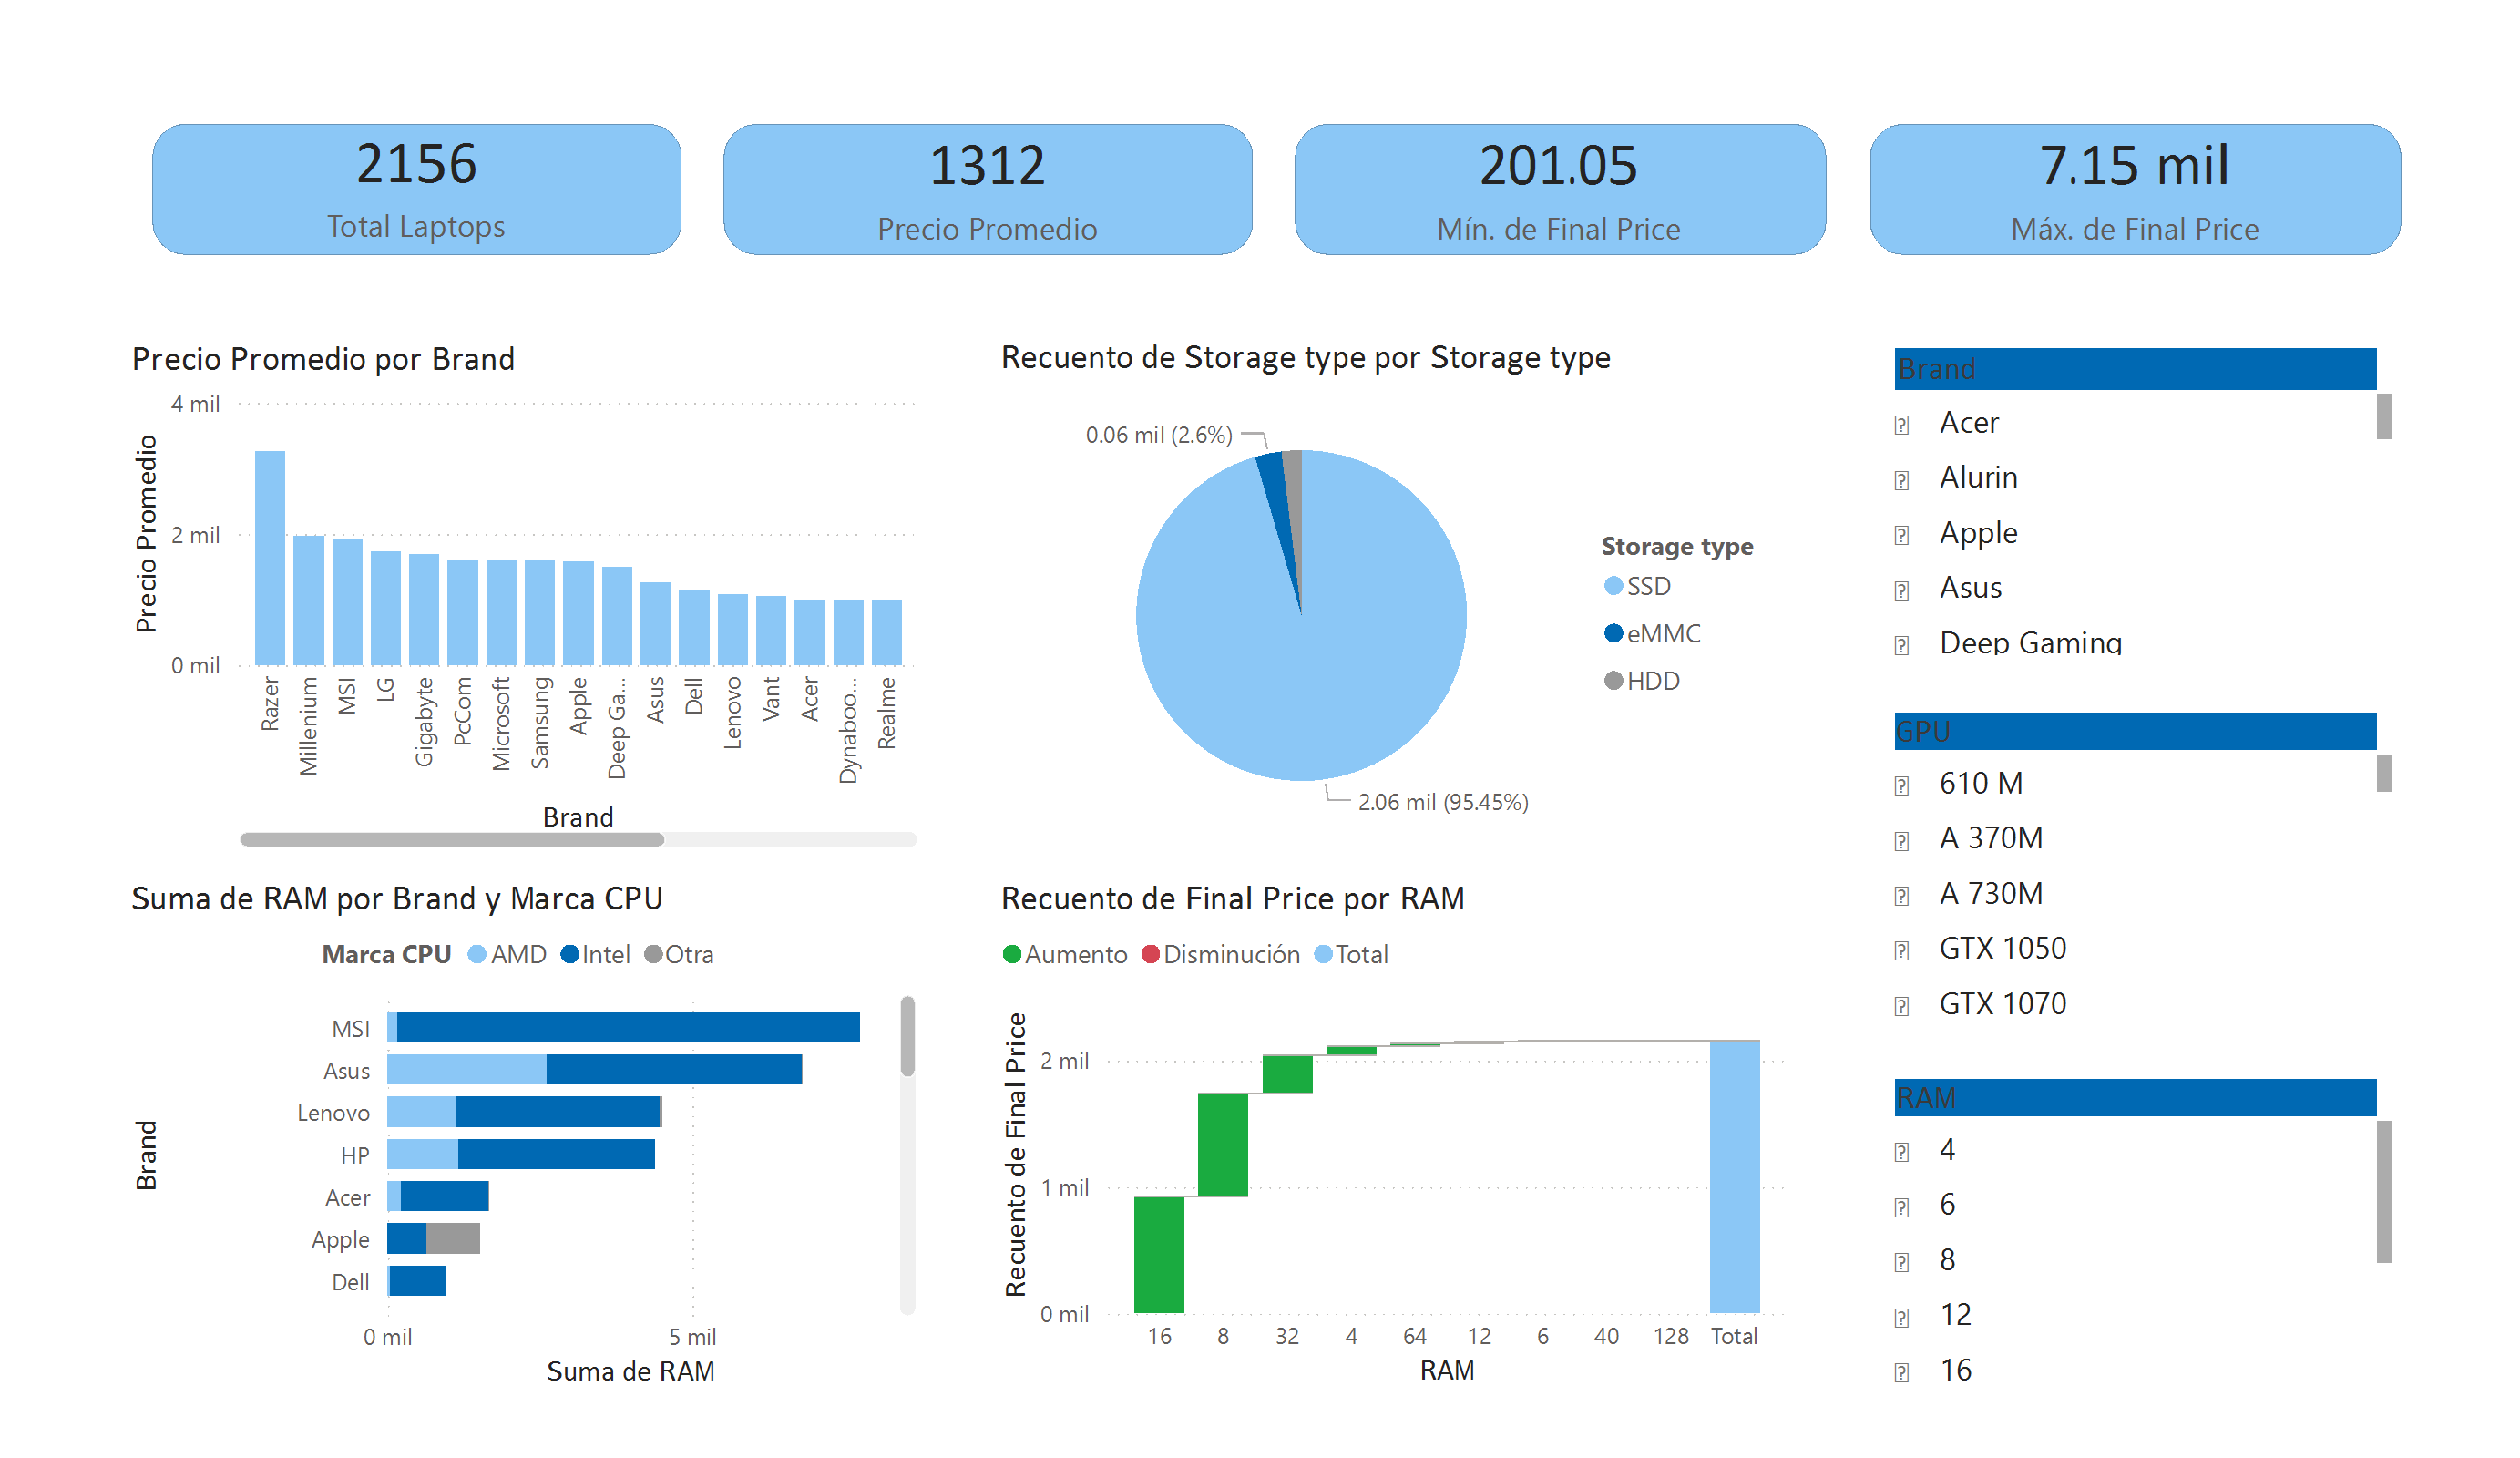

What the dashboard file says about the page in this screenshot:
{"tool":"powerbi","page":{"name":"Página 1","canvas":[1280,720],"ordinal":0},"visuals":[{"type":"shape","box":[961.4,40.7,279.5,69.5],"z":2000},{"type":"shape","box":[658.2,40.7,279.5,69.5],"z":3000},{"type":"shape","box":[356.6,40.7,279.5,69.5],"z":4000},{"type":"shape","box":[55.9,40.7,279.5,69.5],"z":5000},{"type":"card","fields":{"Values":["laptops.Total Laptops"]},"box":[55.9,11,279.5,119.4],"z":6000},{"type":"card","fields":{"Values":["Min(laptops.Final Price)"]},"box":[657.8,12,279.5,119.3],"z":7000},{"type":"card","fields":{"Values":["laptops.Precio Promedio"]},"box":[357.4,12,278.6,119.1],"z":8000},{"type":"card","fields":{"Values":["Max(laptops.Final Price)"]},"box":[961.4,12,279.5,119.3],"z":9000},{"type":"clusteredColumnChart","fields":{"Category":["laptops.Brand"],"Y":["laptops.Precio Promedio"]},"box":[39.5,154.7,424.4,272.1],"z":10000},{"type":"pieChart","fields":{"Category":["laptops.Storage type"],"Y":["CountNonNull(laptops.Storage type)"]},"box":[497.6,154.2,424.1,272.3],"z":11000},{"type":"barChart","fields":{"Category":["laptops.Brand"],"Y":["Sum(laptops.RAM)"],"Series":["laptops.Marca CPU"]},"box":[39.8,438.6,422.9,272.3],"z":12000},{"type":"waterfallChart","fields":{"Category":["laptops.RAM"],"Y":["CountNonNull(laptops.Final Price)"]},"box":[497.6,438.6,424.1,272.3],"z":13000},{"type":"slicer","fields":{"Values":["laptops.Brand"]},"box":[961.4,154.2,279.5,172.3],"z":14000},{"type":"slicer","fields":{"Values":["laptops.GPU"]},"box":[961.4,345.8,279.5,172.3],"z":15000},{"type":"slicer","fields":{"Values":["laptops.RAM"]},"box":[961.4,538.6,279.5,172.3],"z":16000}]}

Visuals, with their boxes on the page's 1280x720 design canvas (x1, y1, x2, y2). These are canvas units, not pixel positions in the 2520x1458 screenshot, which may show the page scaled, cropped or inside an application window:
shape: detection(961, 41, 1241, 110)
shape: detection(658, 41, 938, 110)
shape: detection(357, 41, 636, 110)
shape: detection(56, 41, 335, 110)
card - laptops.Total Laptops: detection(56, 11, 335, 130)
card - Min(laptops.Final Price): detection(658, 12, 937, 131)
card - laptops.Precio Promedio: detection(357, 12, 636, 131)
card - Max(laptops.Final Price): detection(961, 12, 1241, 131)
clusteredColumnChart - laptops.Brand x laptops.Precio Promedio: detection(40, 155, 464, 427)
pieChart - laptops.Storage type x CountNonNull(laptops.Storage type): detection(498, 154, 922, 426)
barChart - laptops.Brand x Sum(laptops.RAM): detection(40, 439, 463, 711)
waterfallChart - laptops.RAM x CountNonNull(laptops.Final Price): detection(498, 439, 922, 711)
slicer - laptops.Brand: detection(961, 154, 1241, 326)
slicer - laptops.GPU: detection(961, 346, 1241, 518)
slicer - laptops.RAM: detection(961, 539, 1241, 711)
